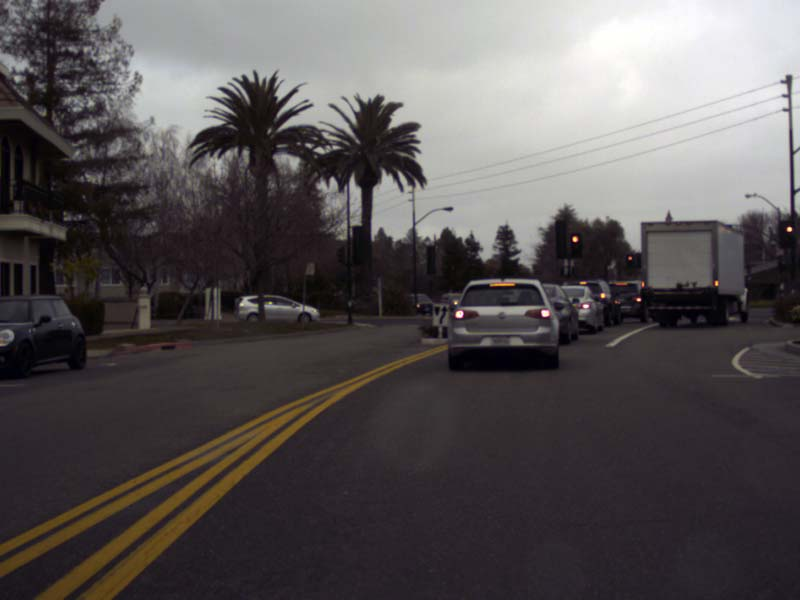Red: (781, 221, 794, 246), (570, 233, 581, 257), (625, 253, 635, 268)
